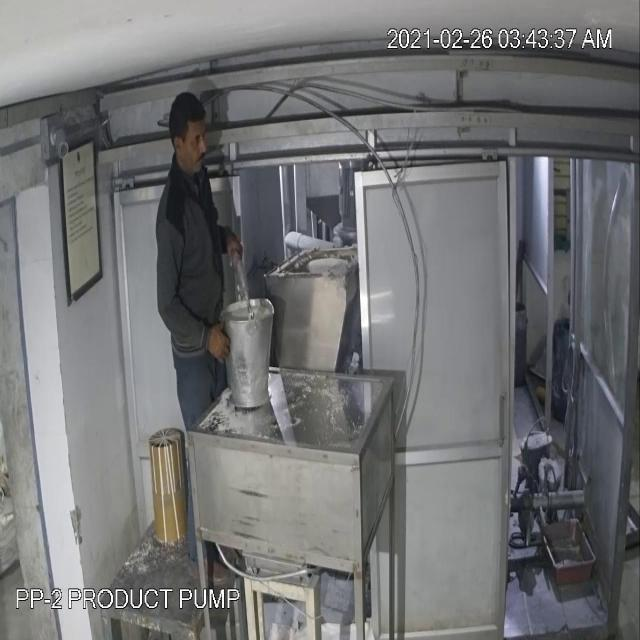no hat: (166, 90, 212, 181)
